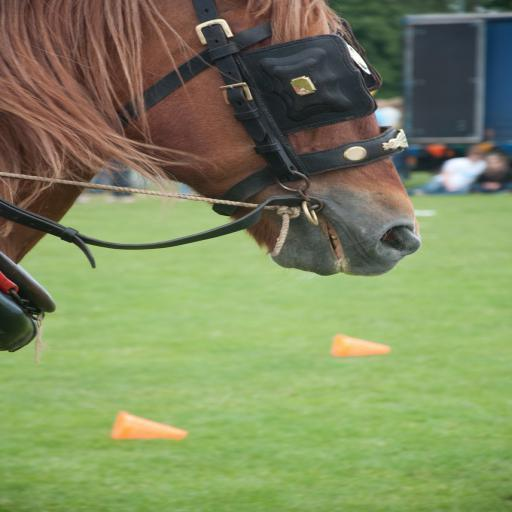horse: (0, 0, 427, 280)
